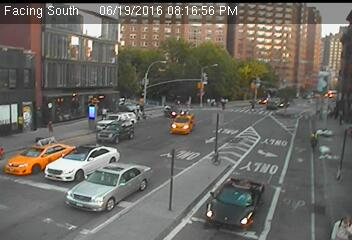neg: (118, 162, 140, 191), (50, 144, 71, 171), (211, 145, 231, 172), (36, 94, 55, 120), (242, 98, 261, 123), (293, 98, 312, 122), (227, 193, 246, 217), (98, 115, 116, 139), (75, 44, 91, 66), (317, 139, 333, 161), (317, 58, 333, 80), (280, 135, 296, 156), (297, 28, 313, 49), (299, 183, 315, 203), (251, 144, 266, 165), (35, 57, 50, 77), (31, 186, 46, 205), (138, 98, 152, 117), (192, 52, 206, 71), (96, 174, 110, 193), (135, 66, 149, 85), (266, 188, 280, 207), (276, 60, 290, 78), (184, 162, 197, 180), (234, 49, 247, 66), (162, 176, 175, 192), (122, 46, 134, 61), (197, 95, 207, 109), (268, 47, 278, 61), (168, 118, 177, 131)
